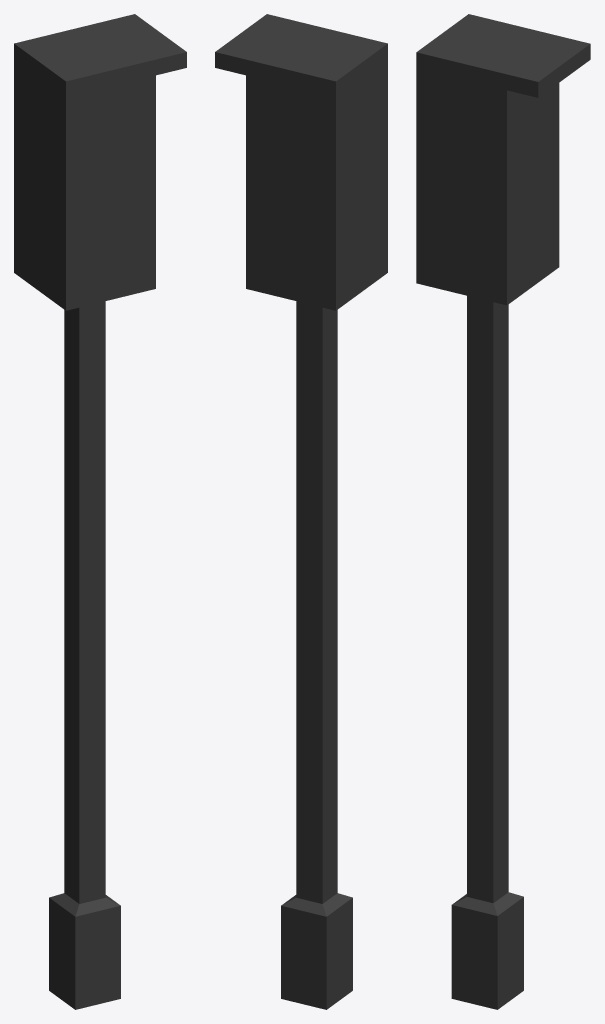
File: trafficlight_1_1.dae
3 views of the same model, side by side, from view 1: azimuth 30°, elevation 25°; view 2: azimuth 150°, elevation 25°; view 3: azimuth 330°, elevation 25° (orthographic).
Parts seen in each view (by area): view 1: traffic_light; view 2: traffic_light; view 3: traffic_light.
Part boxes in pixels (x1,y1,x2,y2): traffic_light: [14, 14, 186, 1009]; traffic_light: [215, 14, 387, 1009]; traffic_light: [416, 14, 590, 1009].
Bounding box in the file's own units: 0.3885 × 0.289 × 2.9.
Materials: 1 (1 with a texture image).
